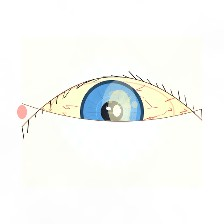corneal_ulcer: (89, 84, 150, 133)
